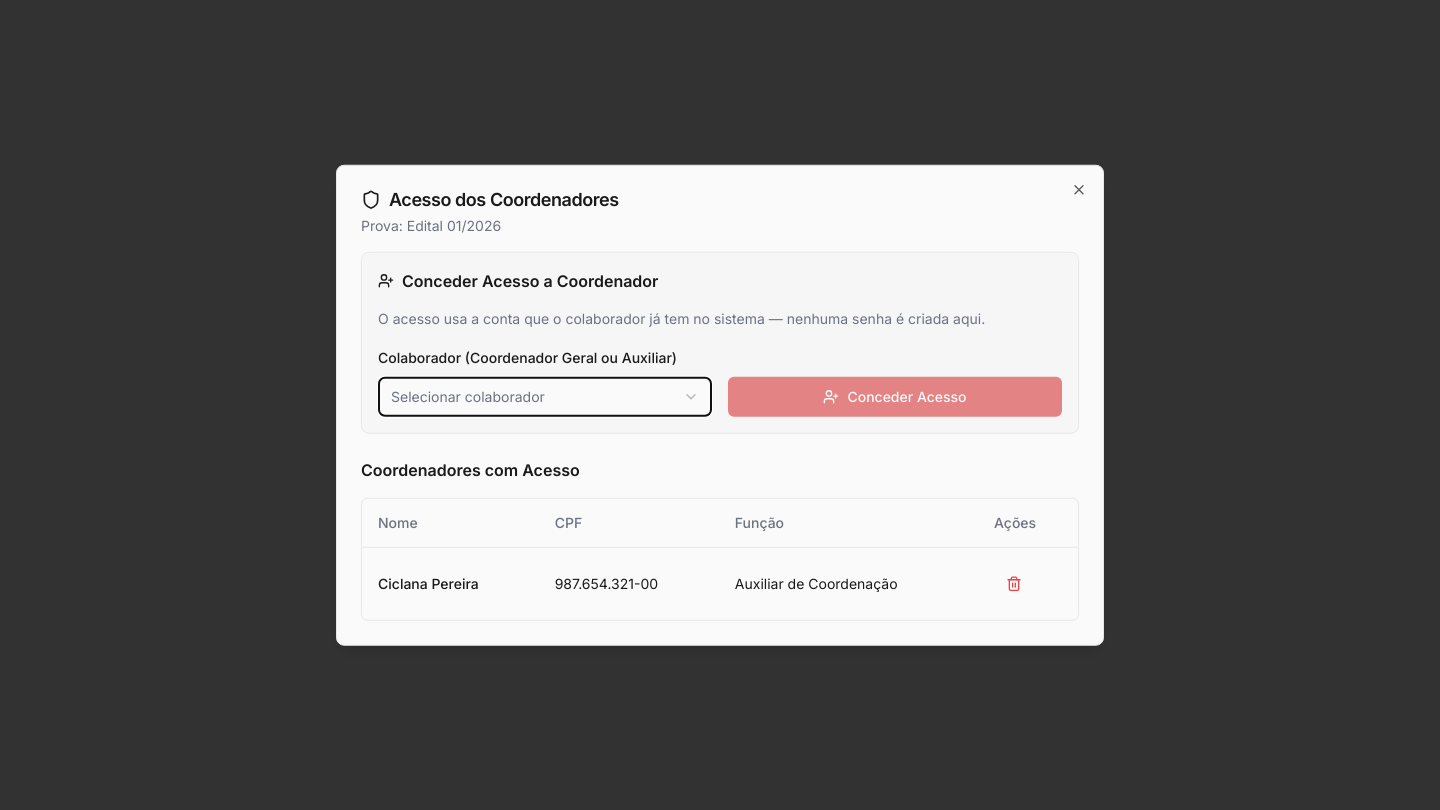
Test: CoordenadoresProvaDialog (interação) › remoção de acesso › pede confirmação antes de remover
Click the button without text in the row of "Ciclana Pereira" at (1014, 583), box [994,563,1034,603]
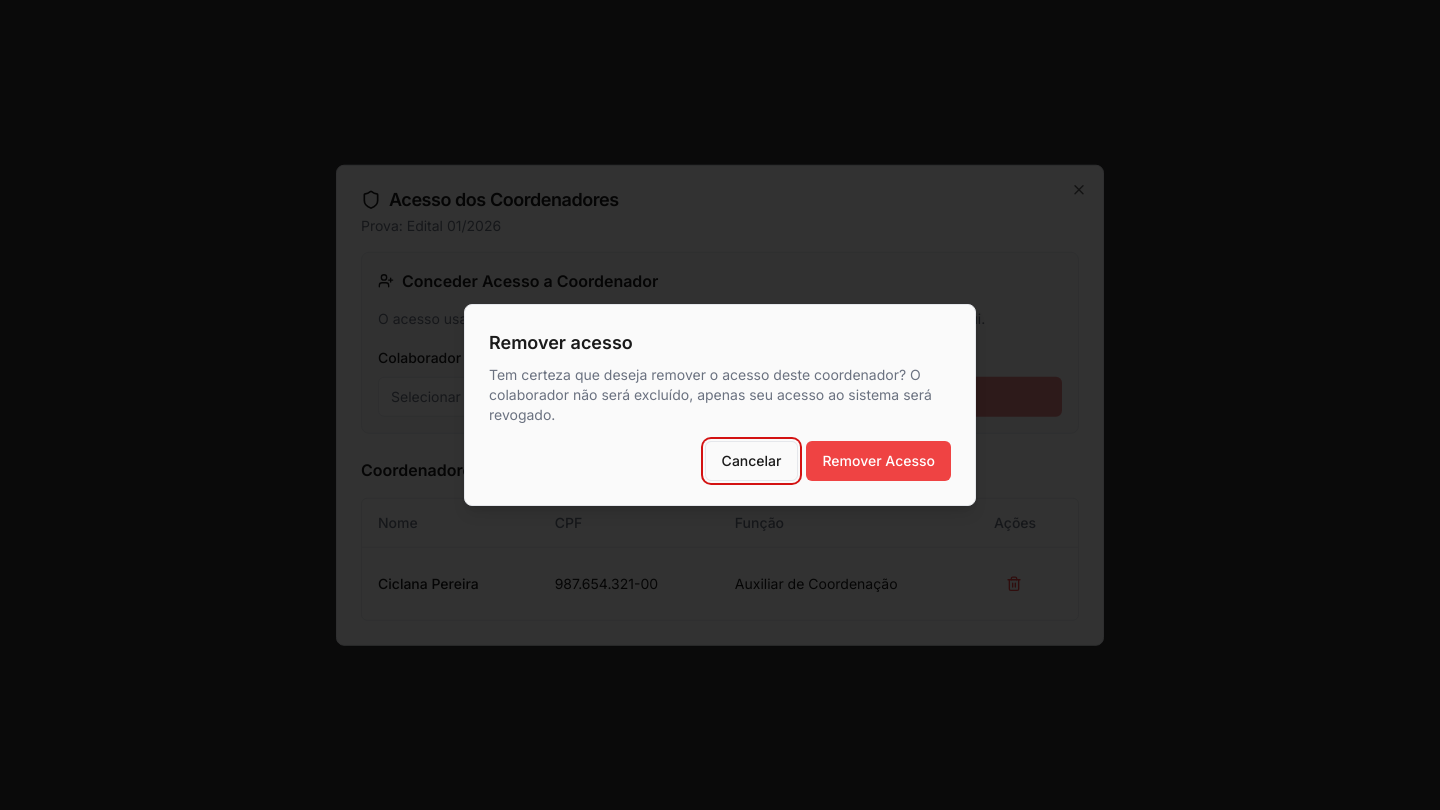
expect the heading "Remover acesso" is shown: met, box [489,332,633,353]
expect the text "O colaborador não será excluído" is shown: met, box [489,366,932,423]
